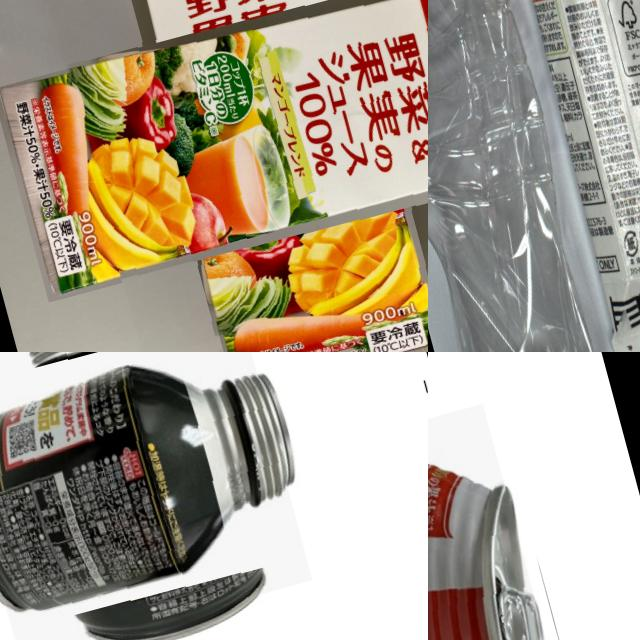Aluminium Foil: (43, 0, 428, 352), (482, 0, 640, 352)
Can: (0, 352, 311, 640), (428, 402, 578, 640)
Transparent Plastic Bottle: (428, 0, 614, 352)
